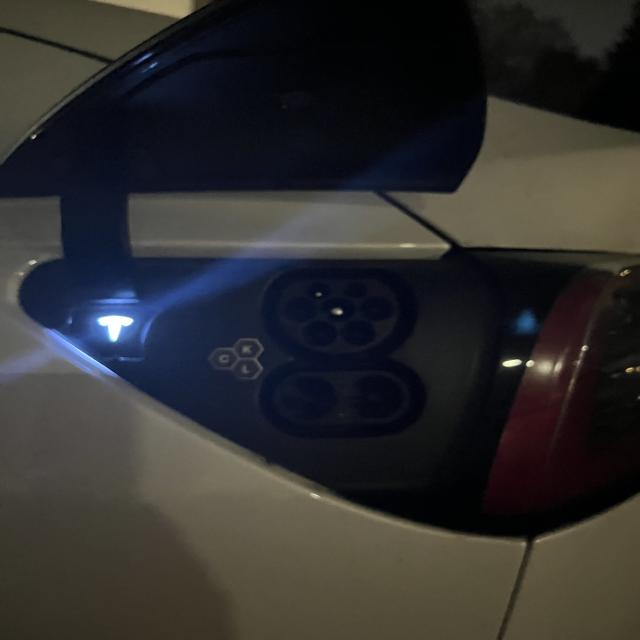inlet: (277, 279, 400, 353)
inlet-above-left: (306, 282, 331, 299)
inlet-above-right: (343, 281, 367, 298)
inlet-below-left: (302, 321, 337, 346)
inlet-below-right: (342, 319, 374, 344)
inlet-circle: (321, 297, 354, 321)
inlet-circle-left: (284, 296, 317, 323)
inlet-circle-right: (361, 296, 392, 321)
inlet-minus: (348, 375, 403, 418)
inlet-plus: (283, 376, 337, 420)
